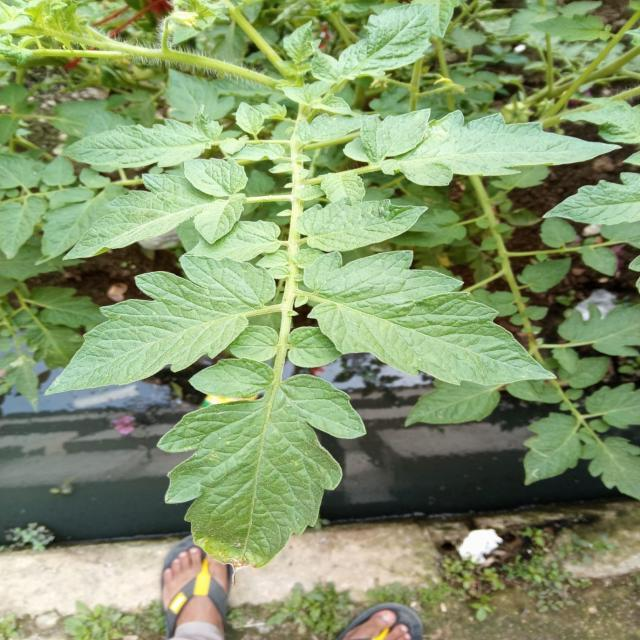Healthy: (285, 224, 574, 414), (133, 360, 361, 589), (26, 247, 284, 402), (50, 149, 224, 288), (382, 103, 616, 188), (64, 108, 227, 185), (294, 181, 432, 260), (272, 359, 377, 453), (189, 356, 274, 399)
